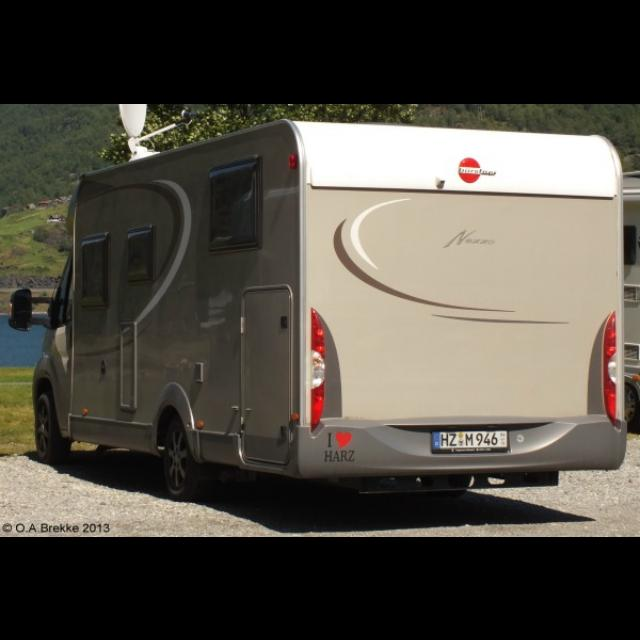d_license_plate: (432, 427, 506, 445)
